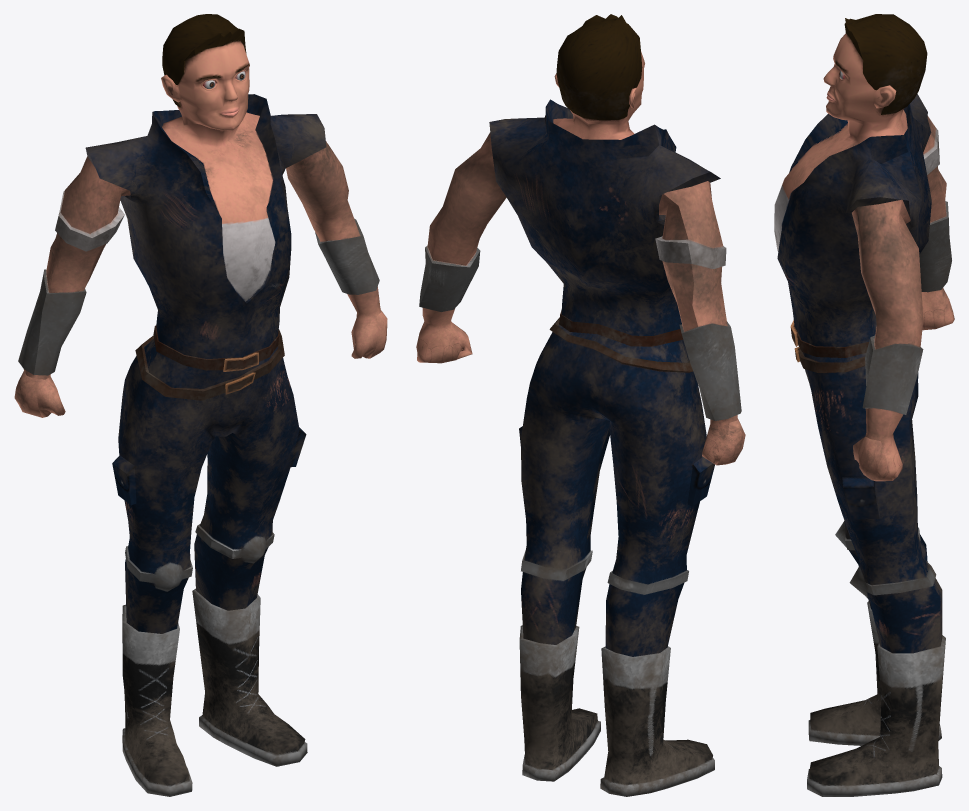
The model's file is Anim_ataque_d1_jugador.0035.obj.
The picture shows the model from 3 angles, left to right: view 1: azimuth 30°, elevation 25°; view 2: azimuth 150°, elevation 25°; view 3: azimuth 270°, elevation 25°; orthographic projection.
Parts seen in each view (by area): view 1: polySurface1; view 2: polySurface1; view 3: polySurface1.
Boxes of the visible parts, left/top/right/bottom form: polySurface1: left=14, top=14, right=387, bottom=796; polySurface1: left=416, top=14, right=745, bottom=796; polySurface1: left=774, top=14, right=954, bottom=796.
Bounding box in the file's own units: 4.72 × 9.68 × 2.12.
